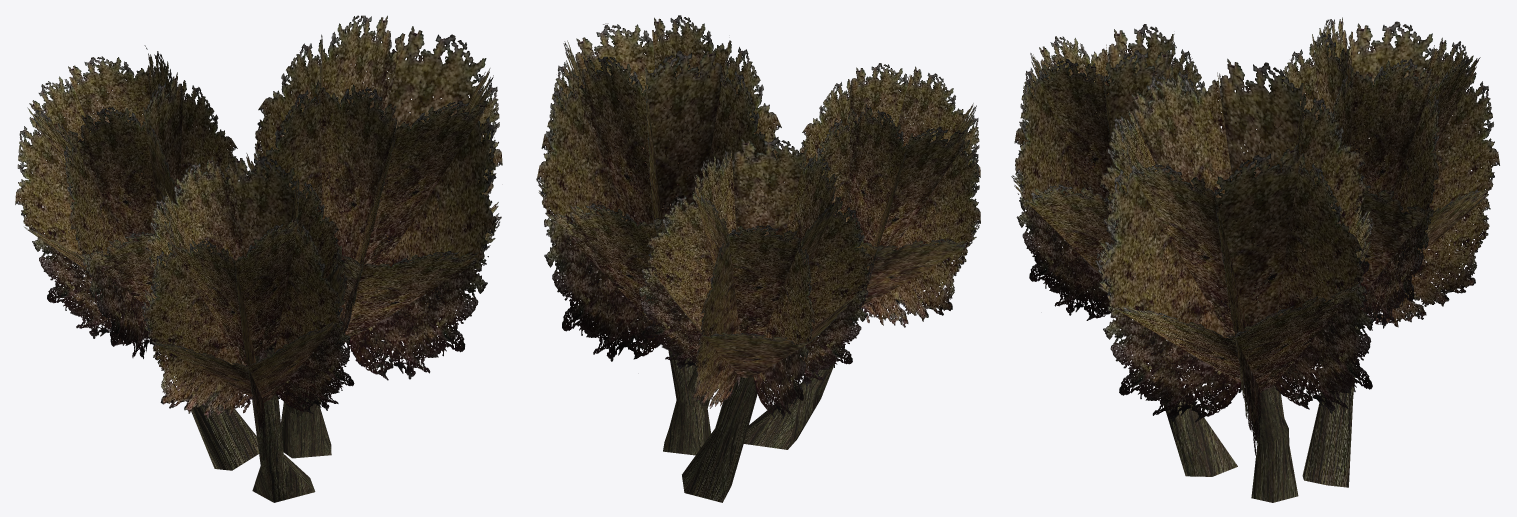
File: OW_LOB_TREEGROUP_V3.glb
3 renders of one model, left to right at view 1: azimuth 30°, elevation 25°; view 2: azimuth 150°, elevation 25°; view 3: azimuth 270°, elevation 25°, orthographic. The views are drawn at different scales.
Visible parts, largest first — view 1: Mesh; view 2: Mesh; view 3: Mesh.
Boxes of the visible parts, x1,y1,x2,y2 form: Mesh: [15, 15, 502, 502]; Mesh: [536, 15, 980, 502]; Mesh: [1011, 17, 1499, 502].
Bounding box in the file's own units: 16.88 × 16.97 × 16.53.
Materials: 2 (2 with a texture image).
